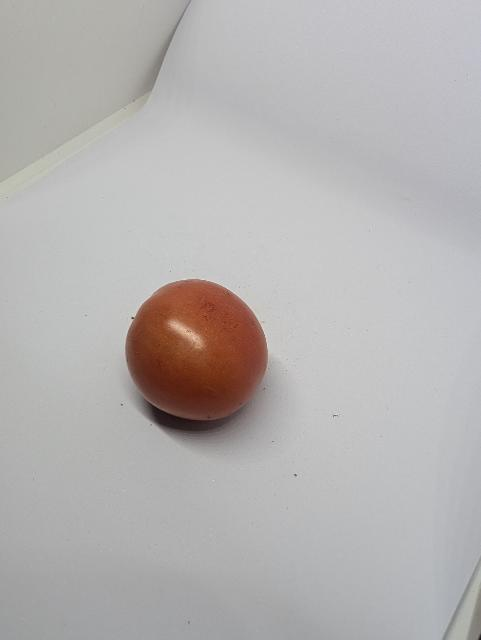red: (122, 276, 272, 431)
